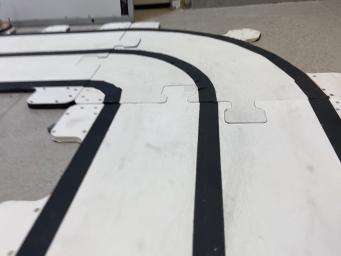stop: (0, 17, 13, 34), (0, 17, 13, 34), (0, 17, 13, 34), (0, 17, 13, 34), (0, 17, 13, 34), (0, 17, 13, 34)
street: (0, 28, 341, 254), (0, 28, 341, 254), (0, 28, 341, 254), (0, 28, 341, 254), (0, 28, 341, 254), (0, 28, 341, 254)
